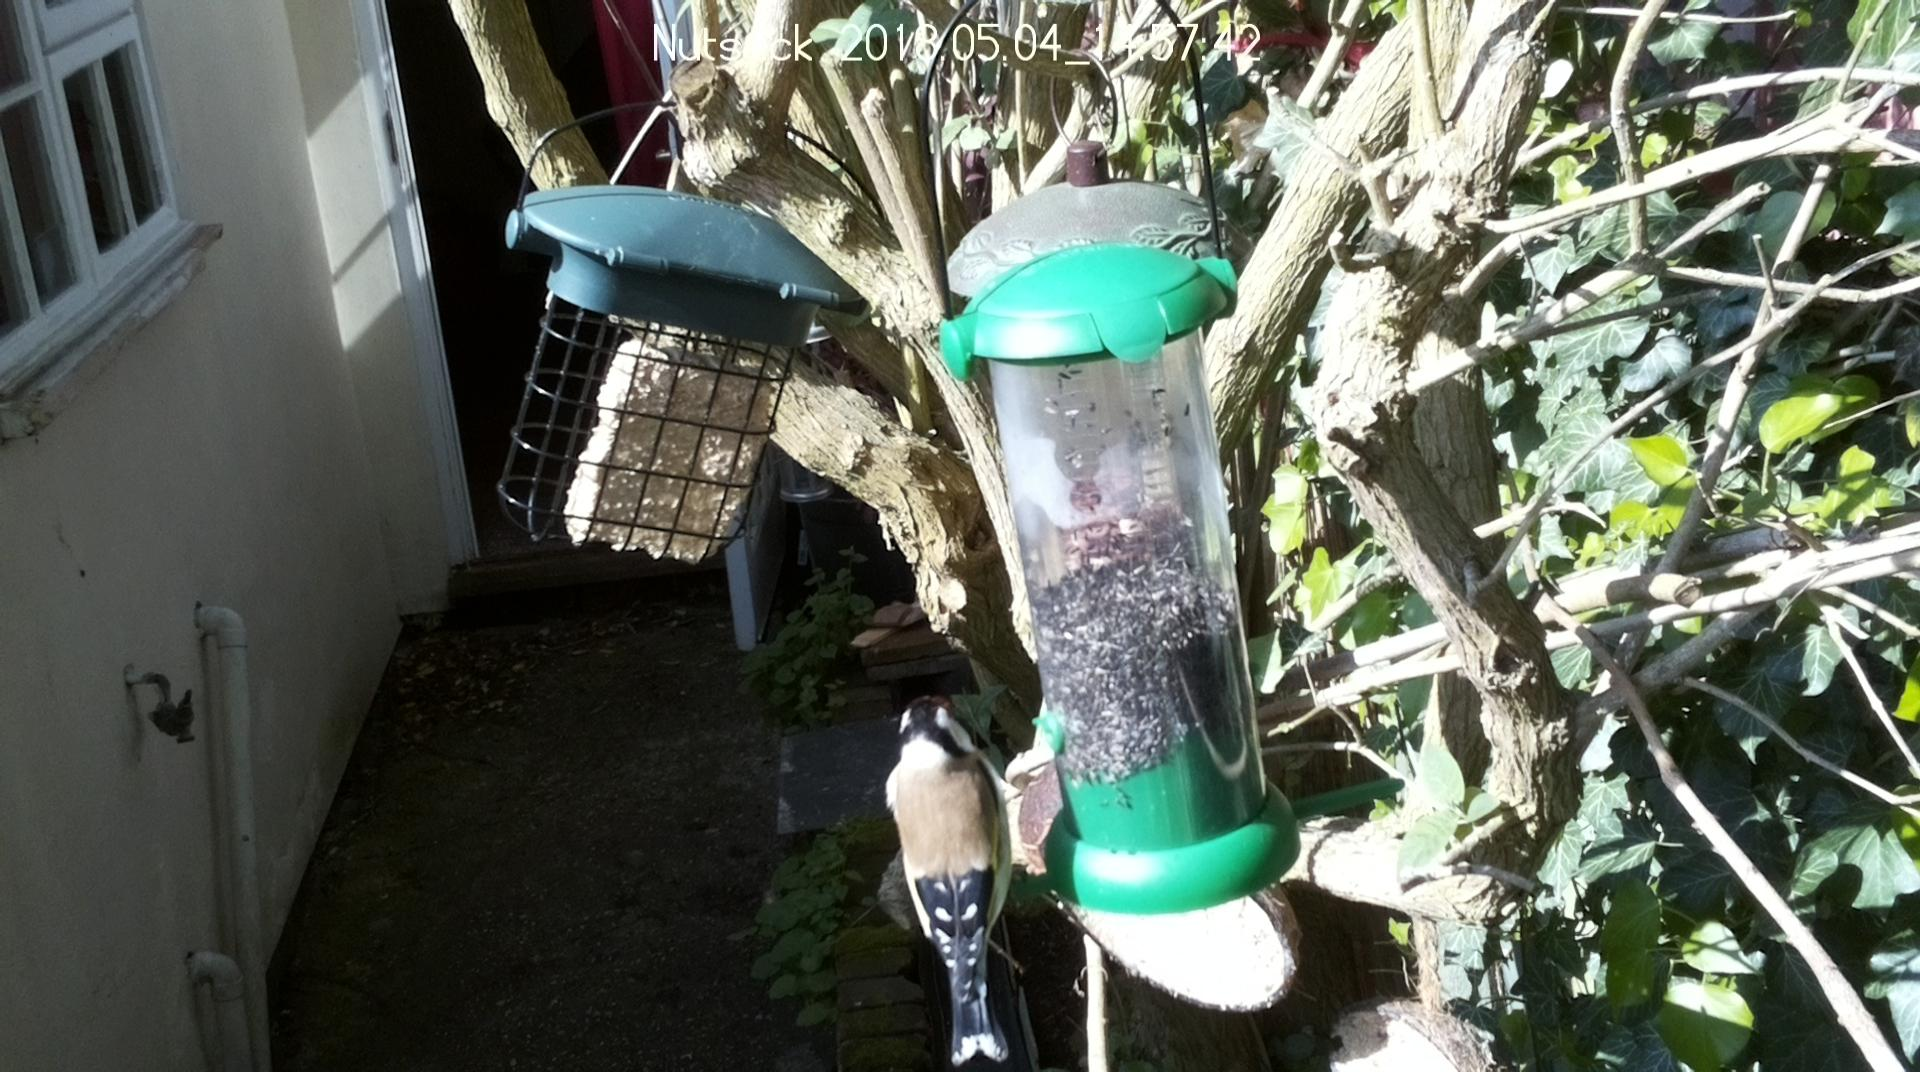goldfinch: (884, 694, 1011, 1067)
